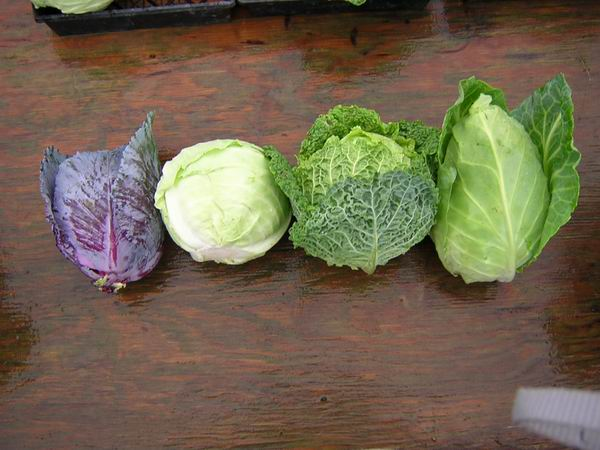cabbage: (425, 75, 579, 284), (269, 100, 440, 277), (34, 109, 164, 294), (153, 137, 290, 266)
